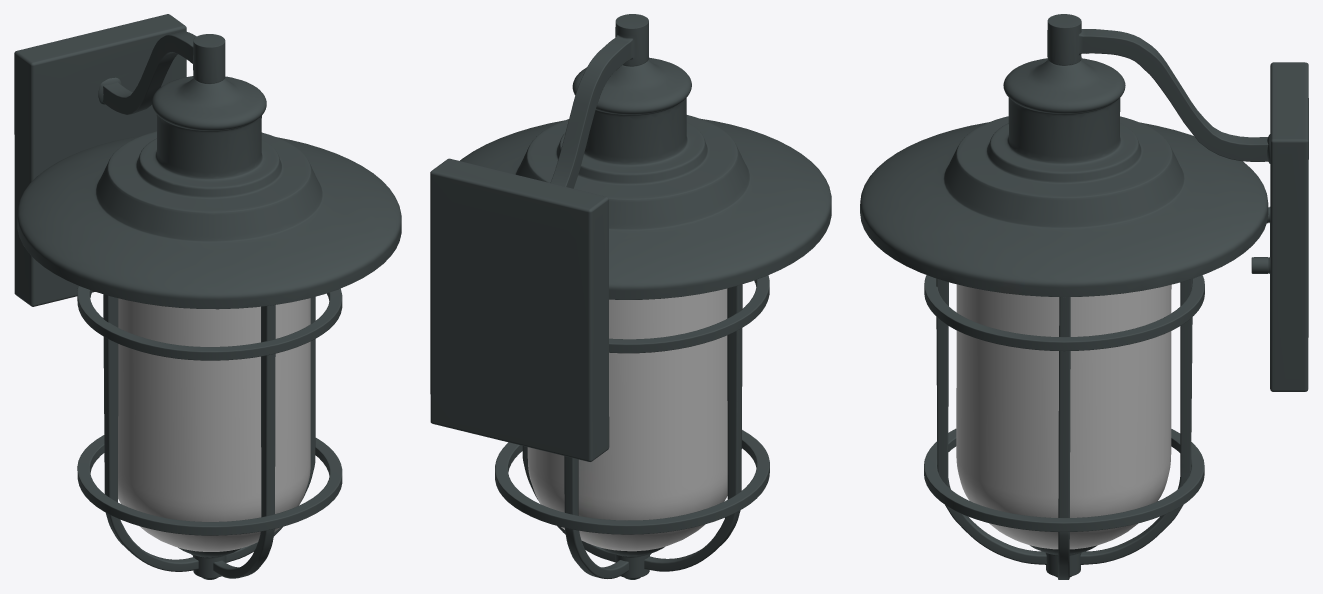
The model's file is abo-B082JHBD9S.glb.
The picture shows the model from 3 angles, left to right: view 1: azimuth 30°, elevation 25°; view 2: azimuth 150°, elevation 25°; view 3: azimuth 270°, elevation 25°; orthographic projection. The views are drawn at different scales.
Bounding box in the file's own units: 0.222 × 0.345 × 0.252.
1 material, 1 textured.
